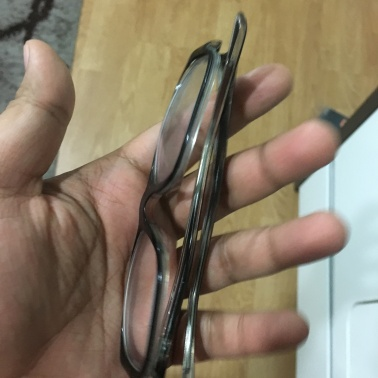glasses: (120, 26, 240, 378)
